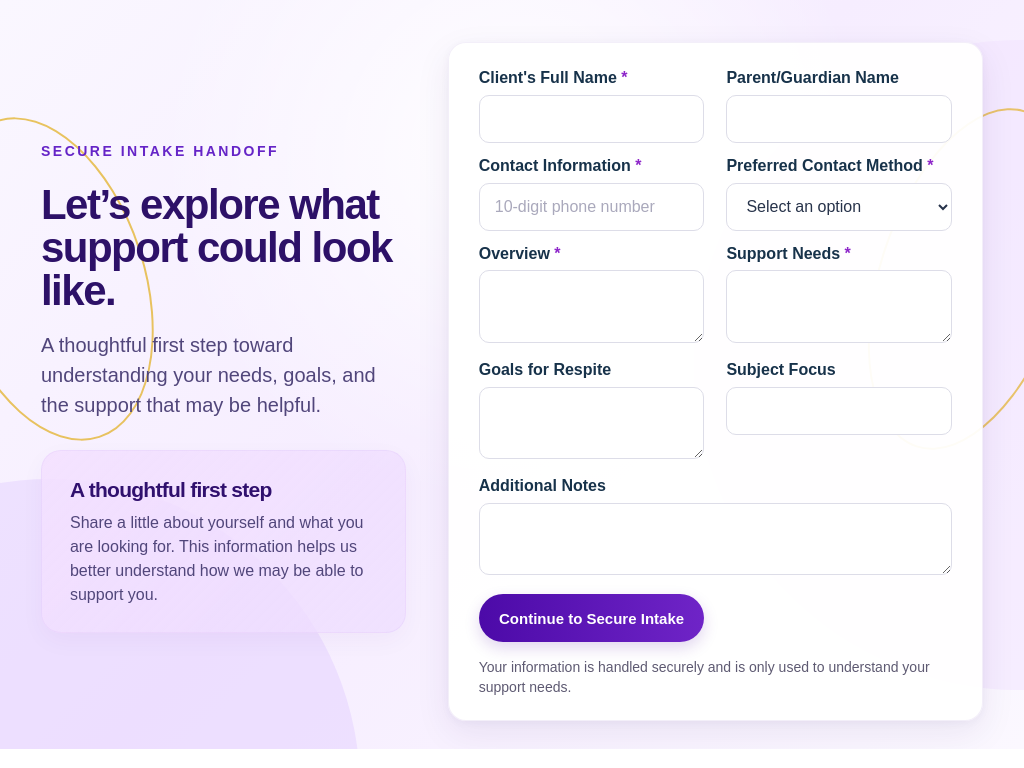
it: Intake page › shows backend error message
This screenshot has width=1024, height=768.
Type "Sam Lee" into the field labelled "Client's Full Name *" at x=592, y=119, box [479,95,704,143]
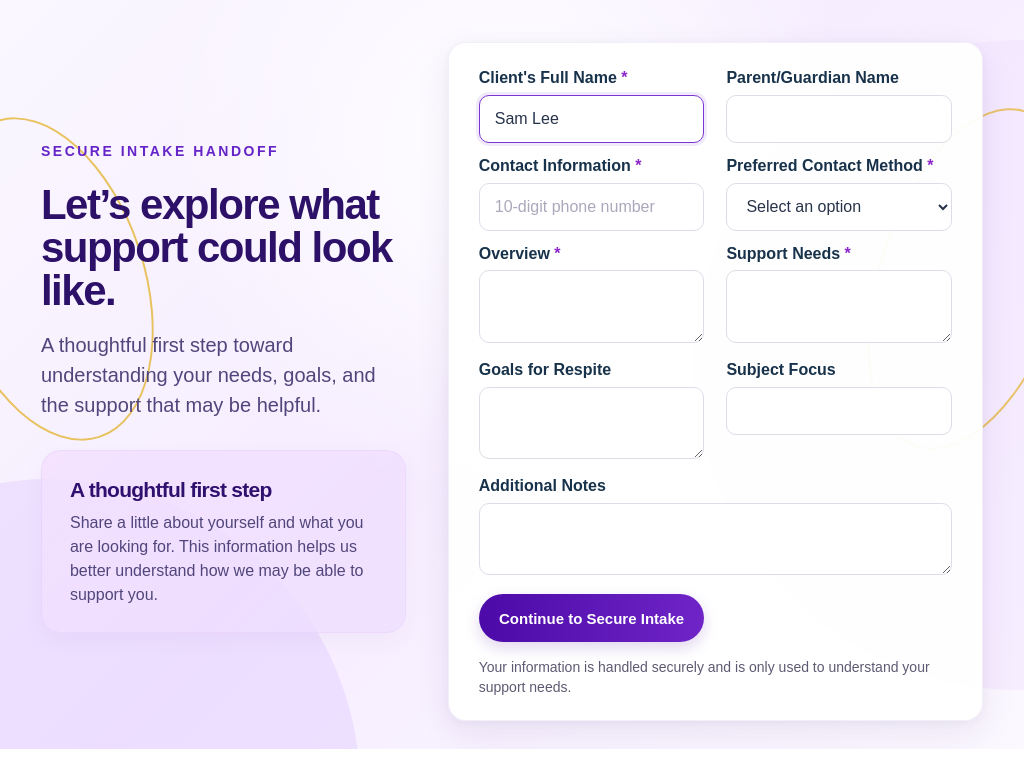
Select "Email" in the dropdown labelled "Preferred Contact Method *" at x=839, y=207, box [726,183,952,231]
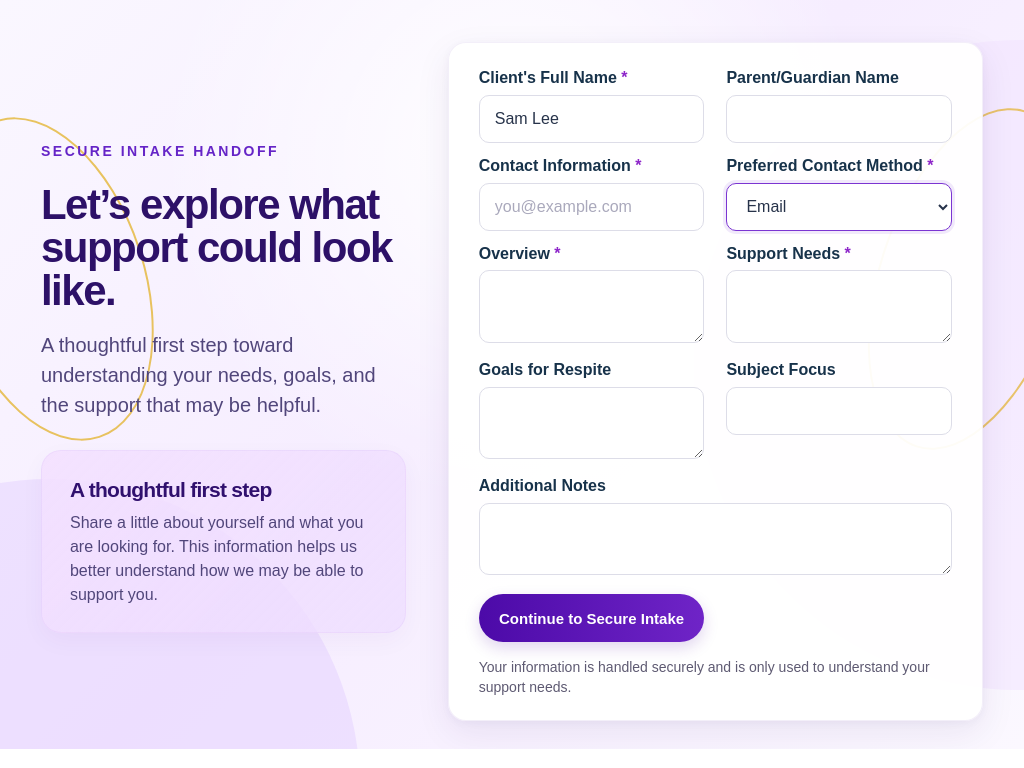
Type "alex@mail.com" into the field labelled "Contact Information *" at x=592, y=207, box [479,183,704,231]
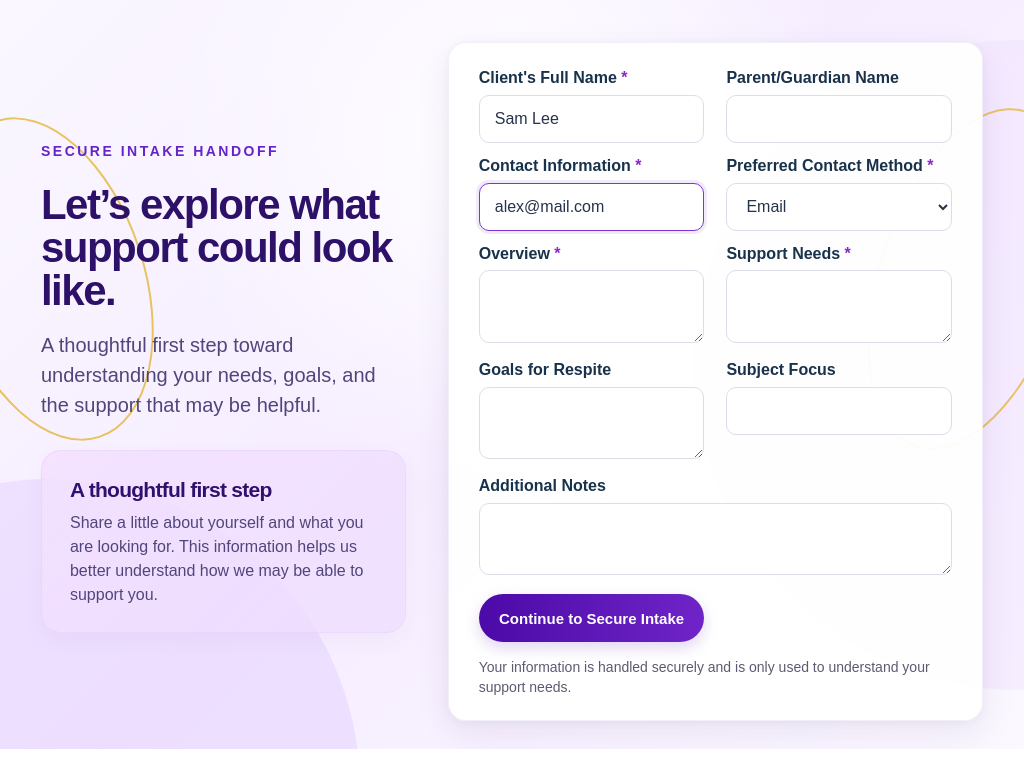
Type "Some overview" into the text box labelled "Overview *" at x=592, y=307, box [479,270,704,343]
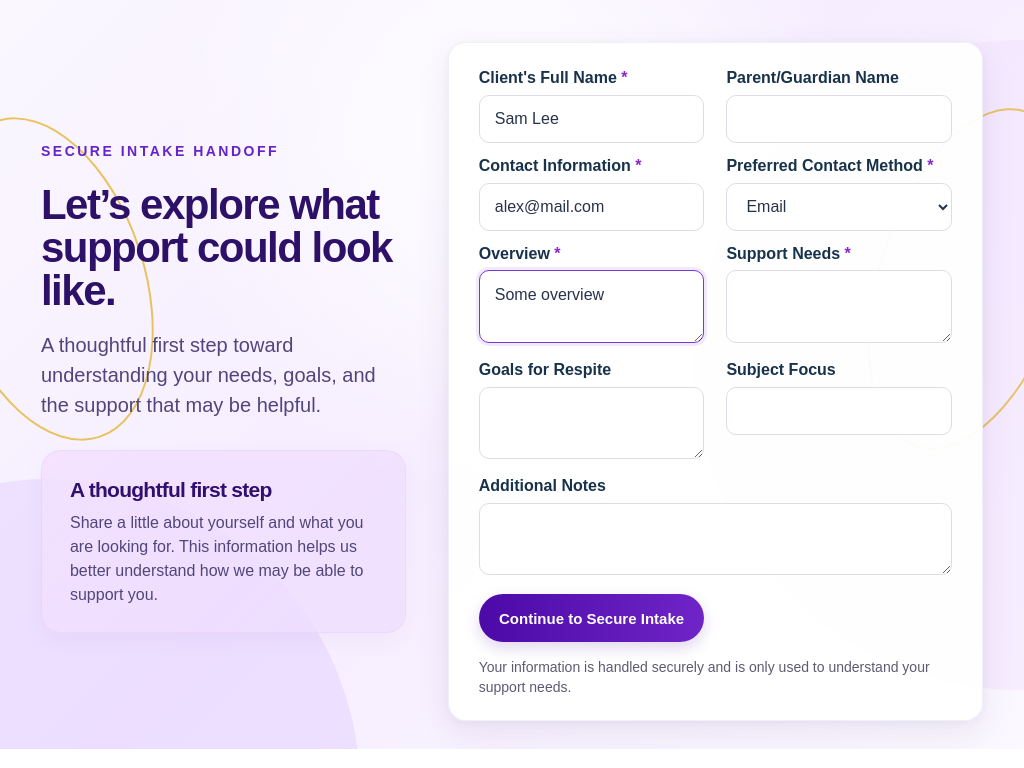
Type "Some needs" into the text box labelled "Support Needs *" at x=839, y=307, box [726,270,952,343]
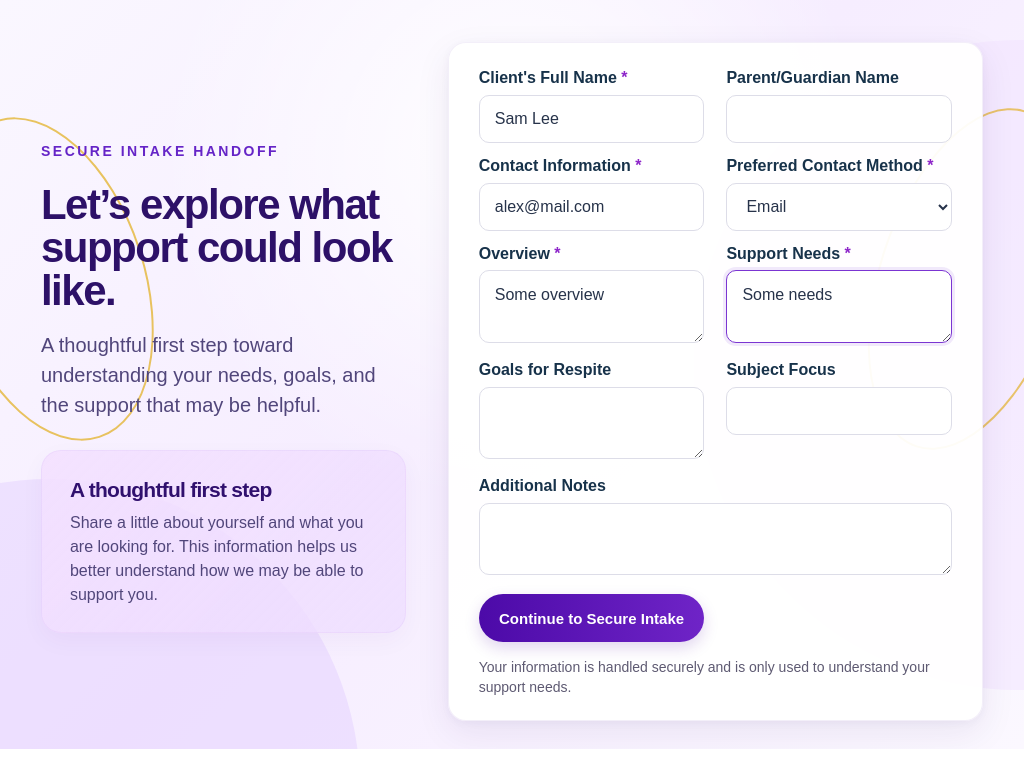
Click the button "Continue to Secure Intake" at x=592, y=618, box [479,594,704,642]
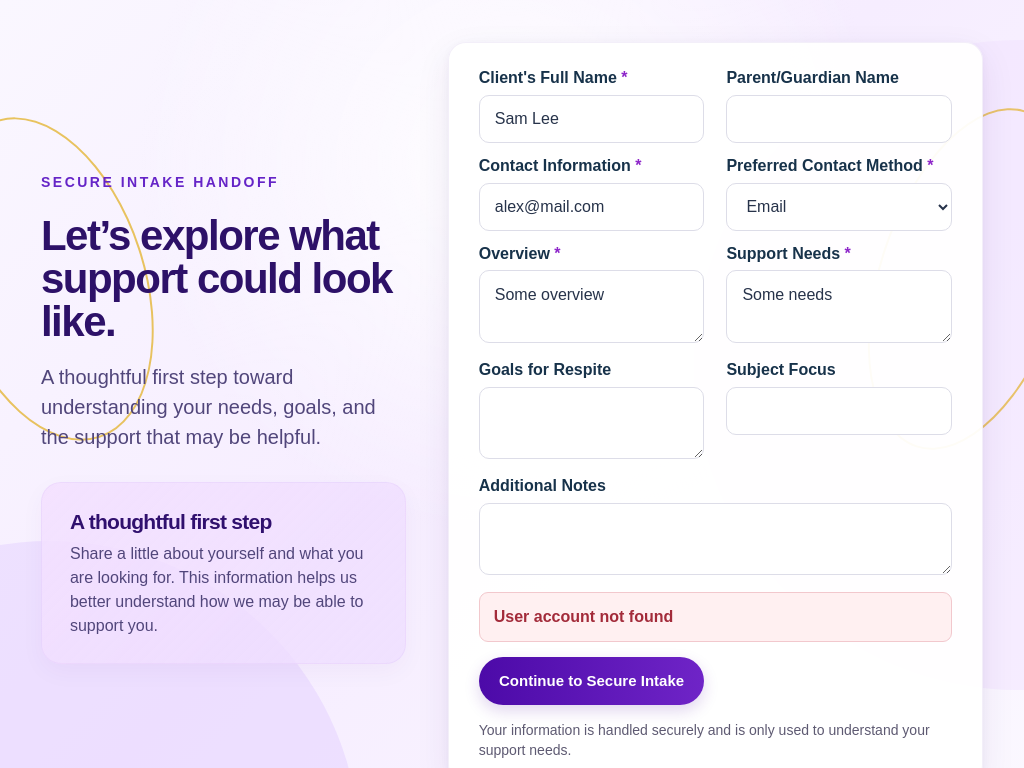
expect the text "User account not found" is shown: met, box [494,608,673,625]
